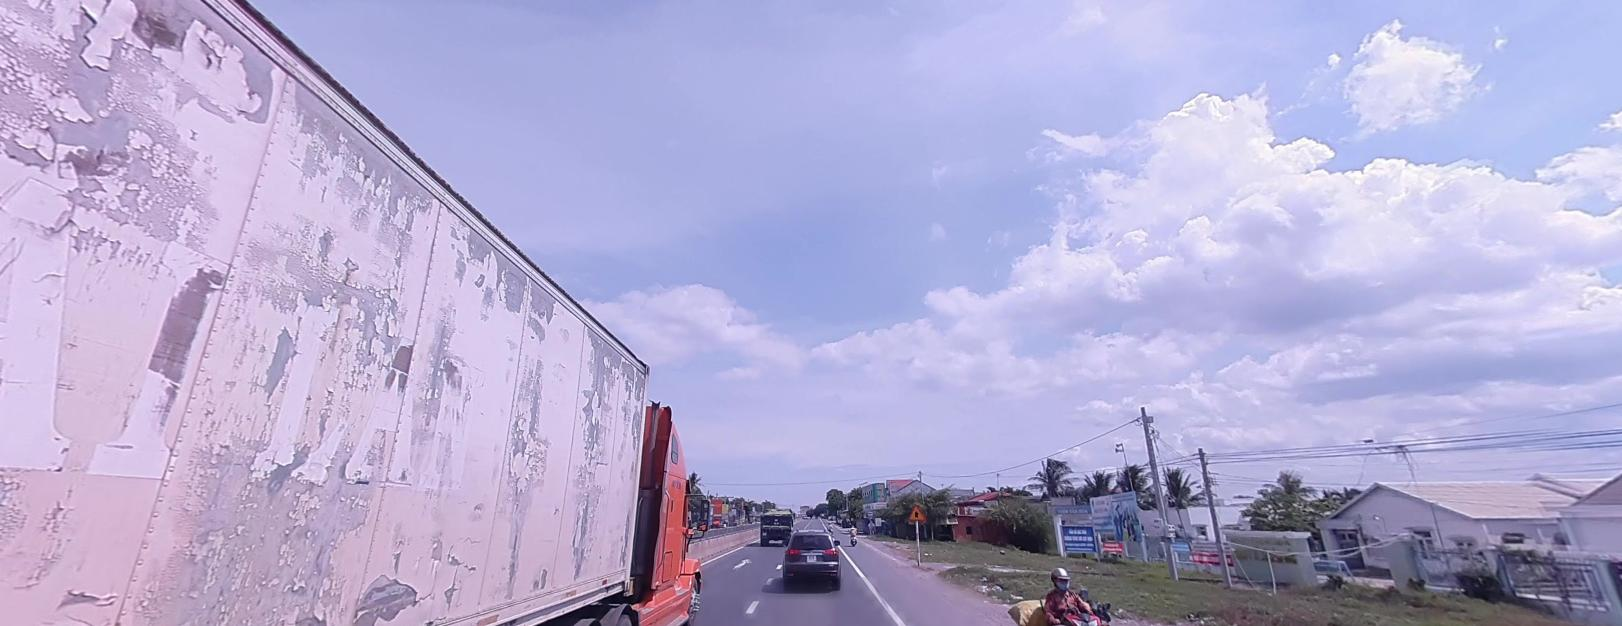Nguy hiem: (907, 503, 925, 520), (908, 503, 925, 519)
